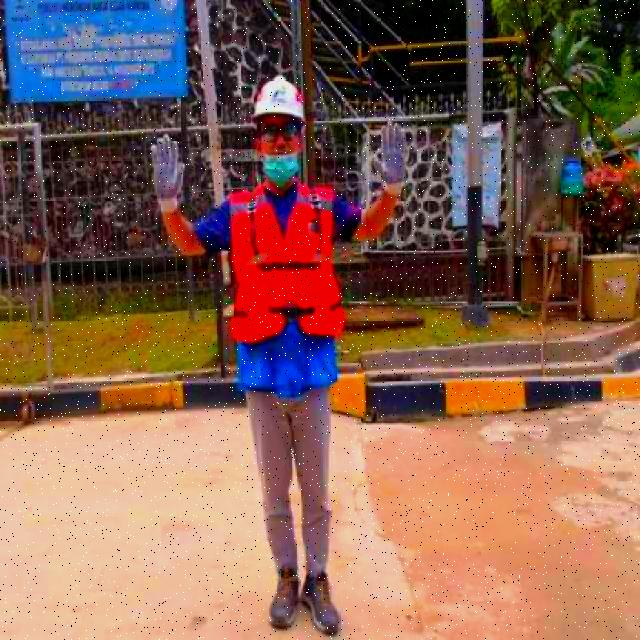Boots: (302, 569, 342, 637), (268, 565, 301, 630)
Gloves: (370, 118, 410, 197), (149, 135, 186, 219)
Helmet: (250, 72, 308, 126)
Mask: (230, 234, 344, 343)
